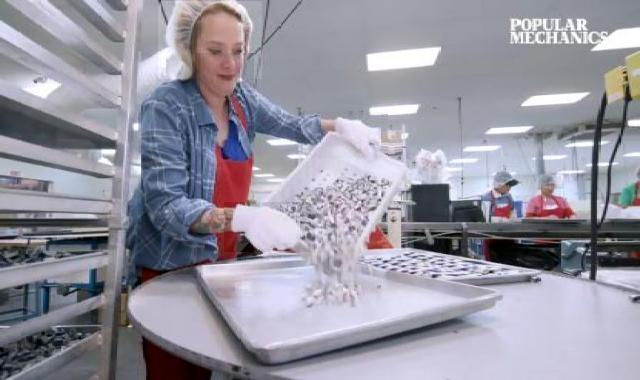apron: (225, 203, 312, 253), (314, 113, 388, 159)
gloves: (158, 1, 262, 79)
no_hairnet: (196, 54, 255, 99)
